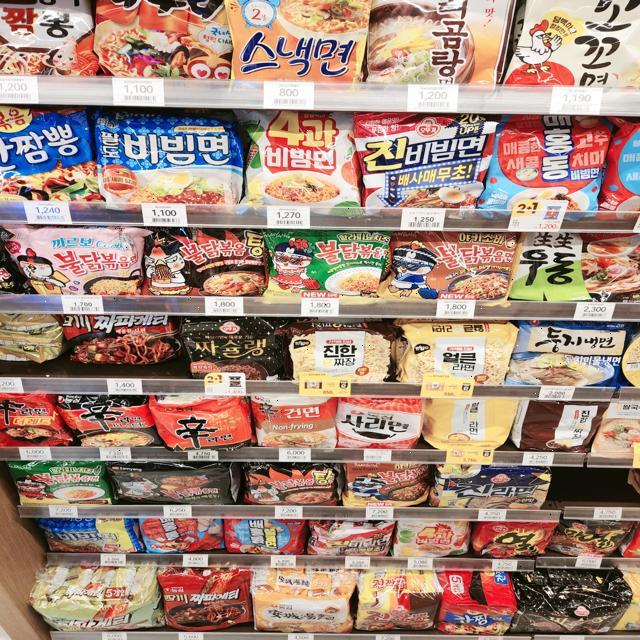product: (354, 105, 491, 227), (92, 113, 238, 214), (243, 107, 364, 218), (491, 106, 607, 221), (139, 224, 279, 319), (383, 219, 525, 311), (263, 223, 394, 315), (5, 227, 156, 306), (513, 219, 640, 311), (393, 319, 517, 391), (507, 320, 623, 395), (287, 316, 393, 388), (144, 390, 254, 457), (421, 391, 520, 465), (181, 319, 281, 388), (440, 460, 549, 517), (57, 392, 159, 451), (6, 458, 111, 514), (251, 393, 339, 457), (337, 397, 420, 461), (517, 392, 596, 456), (479, 514, 553, 567)
